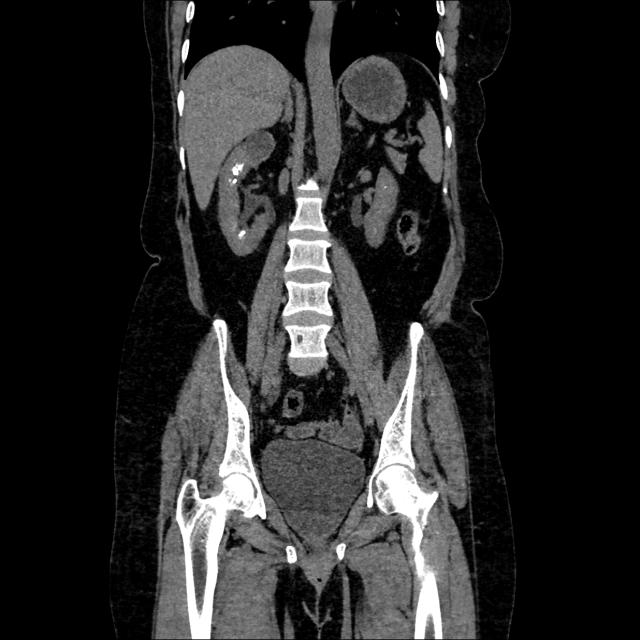kidney: (216, 126, 276, 257), (352, 163, 399, 248)
stone: (230, 159, 244, 179), (228, 172, 239, 185), (237, 228, 247, 239)
